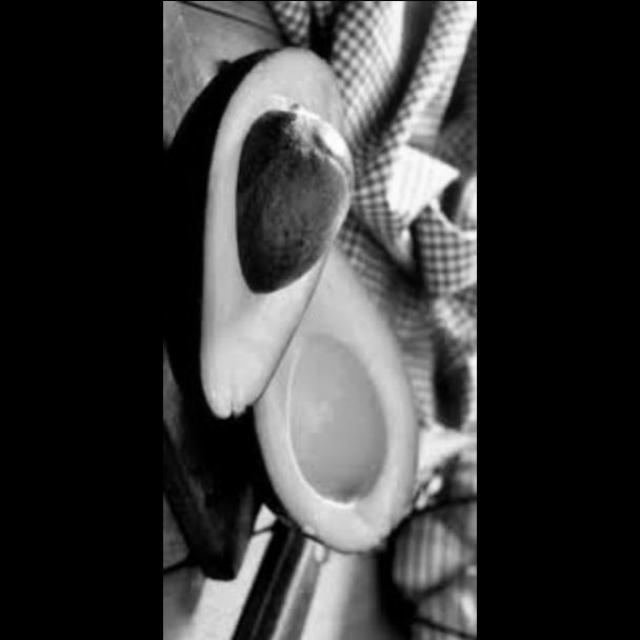bo: (176, 34, 394, 431), (256, 249, 418, 570)
